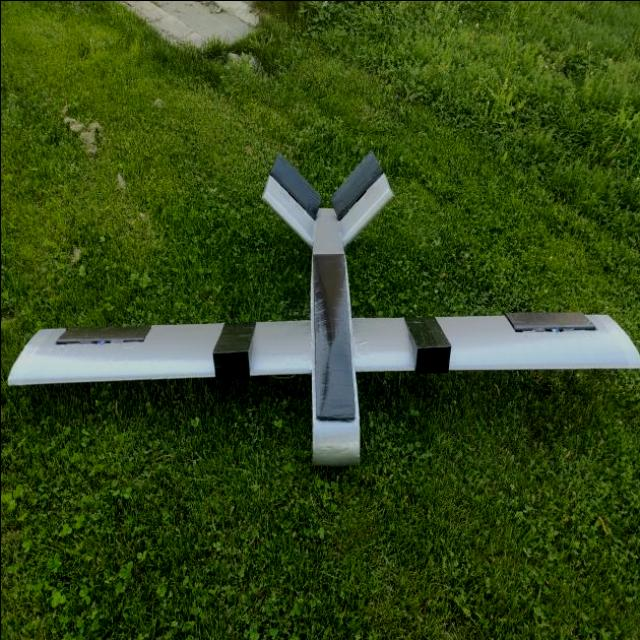plane: (5, 148, 640, 466)
